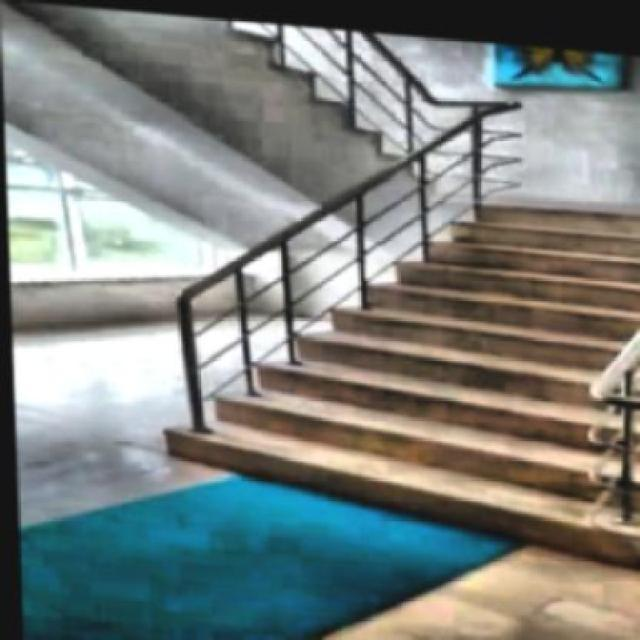stair: (107, 144, 638, 562)
